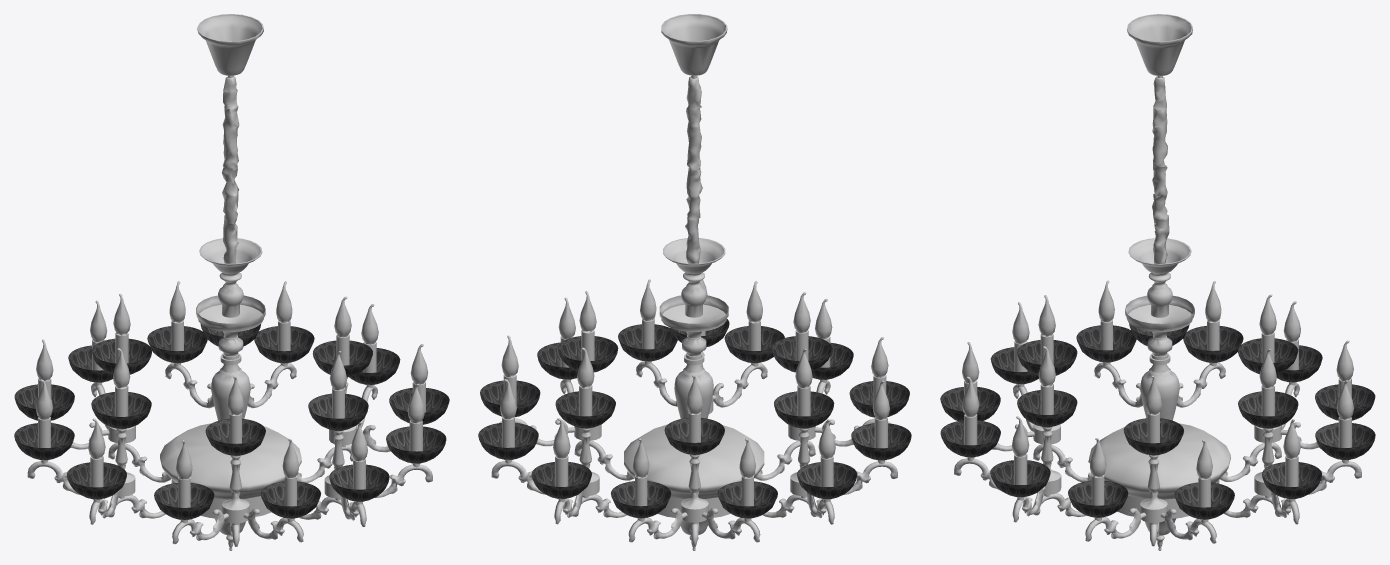
File: Chandelier_03_1k.gltf
The picture shows the model from 3 angles, left to right: view 1: azimuth 30°, elevation 25°; view 2: azimuth 150°, elevation 25°; view 3: azimuth 270°, elevation 25°; orthographic projection.
Visible parts, largest first — view 1: Chandelier_03; view 2: Chandelier_03; view 3: Chandelier_03.
Part boxes in pixels (bbox=[...]): Chandelier_03: bbox=[14, 14, 449, 550]; Chandelier_03: bbox=[478, 14, 911, 550]; Chandelier_03: bbox=[940, 14, 1375, 550].
Size of the model in its own units: 0.7804 by 1.04 by 0.7855.
